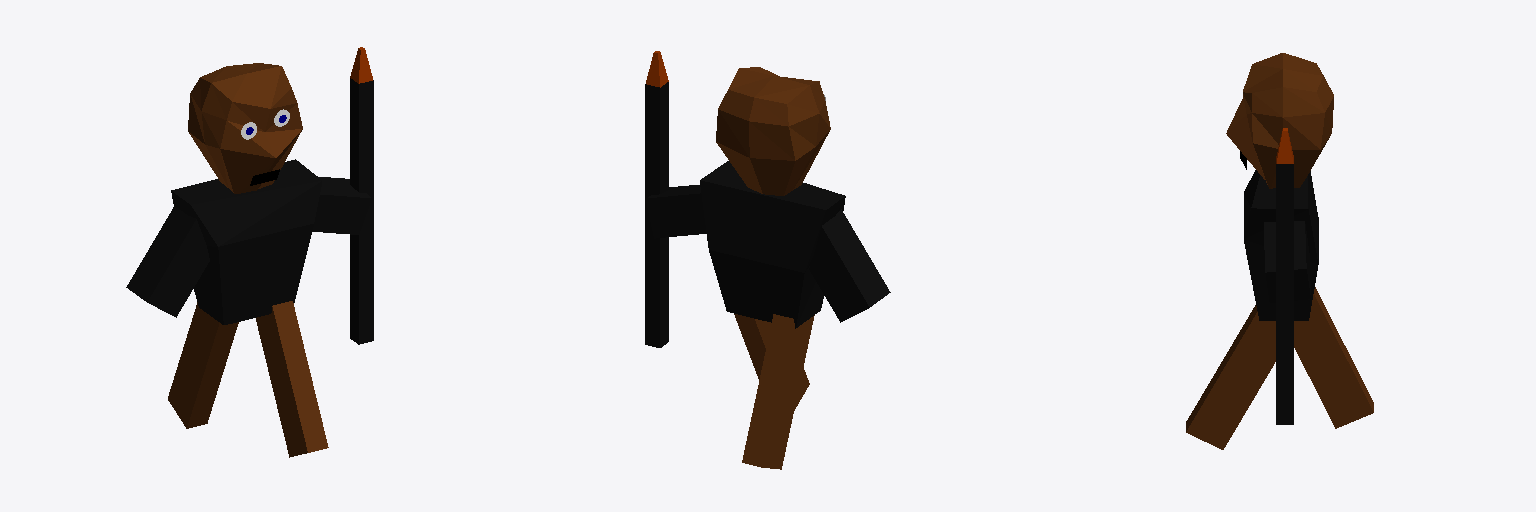
The model's file is spearman3.obj.
The picture shows the model from 3 angles: view 1: azimuth 30°, elevation 25°; view 2: azimuth 150°, elevation 25°; view 3: azimuth 270°, elevation 25°; orthographic projection.
Parts seen in each view (by area): view 1: Cube.001, Cube, Cube.007, Cube.005, Cube.003, Cube.004, Cube.002; view 2: Cube.001, Cube, Cube.004, Cube.007, Cube.003, Cube.002, Cube.005; view 3: Cube, Cube.005, Cube.004, Cube.007, Cube.001, Cube.002.
Part boxes in pixels (bbox=[...]): Cube.001: bbox=[171, 159, 321, 324]; Cube: bbox=[188, 63, 302, 193]; Cube.007: bbox=[350, 47, 373, 344]; Cube.005: bbox=[256, 301, 328, 457]; Cube.003: bbox=[126, 206, 209, 317]; Cube.004: bbox=[168, 302, 238, 428]; Cube.002: bbox=[312, 176, 371, 234]; Cube.001: bbox=[700, 161, 845, 328]; Cube: bbox=[716, 67, 830, 195]; Cube.004: bbox=[742, 314, 814, 469]; Cube.007: bbox=[645, 51, 668, 347]; Cube.003: bbox=[809, 209, 890, 322]; Cube.002: bbox=[646, 185, 706, 238]; Cube.005: bbox=[734, 314, 809, 410]; Cube: bbox=[1226, 53, 1333, 188]; Cube.005: bbox=[1186, 305, 1299, 449]; Cube.004: bbox=[1294, 287, 1373, 428]; Cube.007: bbox=[1276, 128, 1293, 424]; Cube.001: bbox=[1244, 170, 1318, 320]; Cube.002: bbox=[1264, 221, 1310, 302].
Bounding box in the file's own units: 3.88 × 5.87 × 2.73.